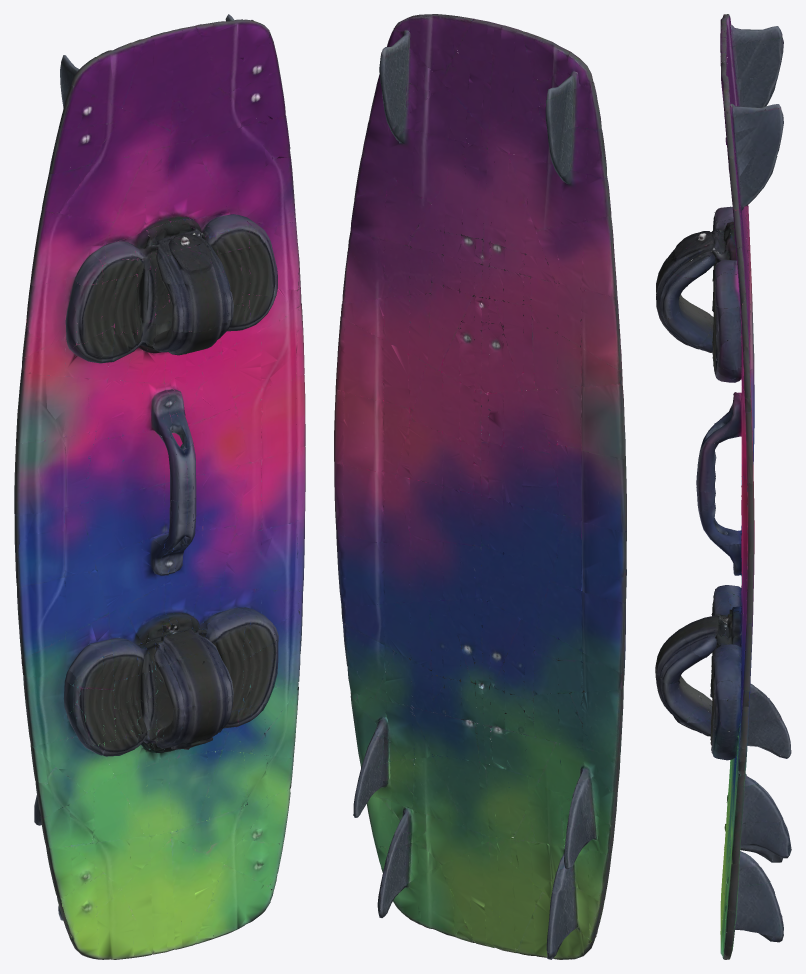
The model's file is kiteboard.glb.
3 renders of one model, left to right at view 1: azimuth 30°, elevation 25°; view 2: azimuth 150°, elevation 25°; view 3: azimuth 270°, elevation 25°, orthographic. The views are drawn at different scales.
Parts seen in each view (by area): view 1: kiteboard; view 2: kiteboard; view 3: kiteboard.
Part boxes in pixels (x1,y1,x2,y2): kiteboard: (14, 14, 305, 959); kiteboard: (334, 14, 626, 959); kiteboard: (655, 14, 791, 959).
Size of the model in its own units: 0.6275 by 1.9 by 0.264.
Materials: 1 (1 with a texture image).
